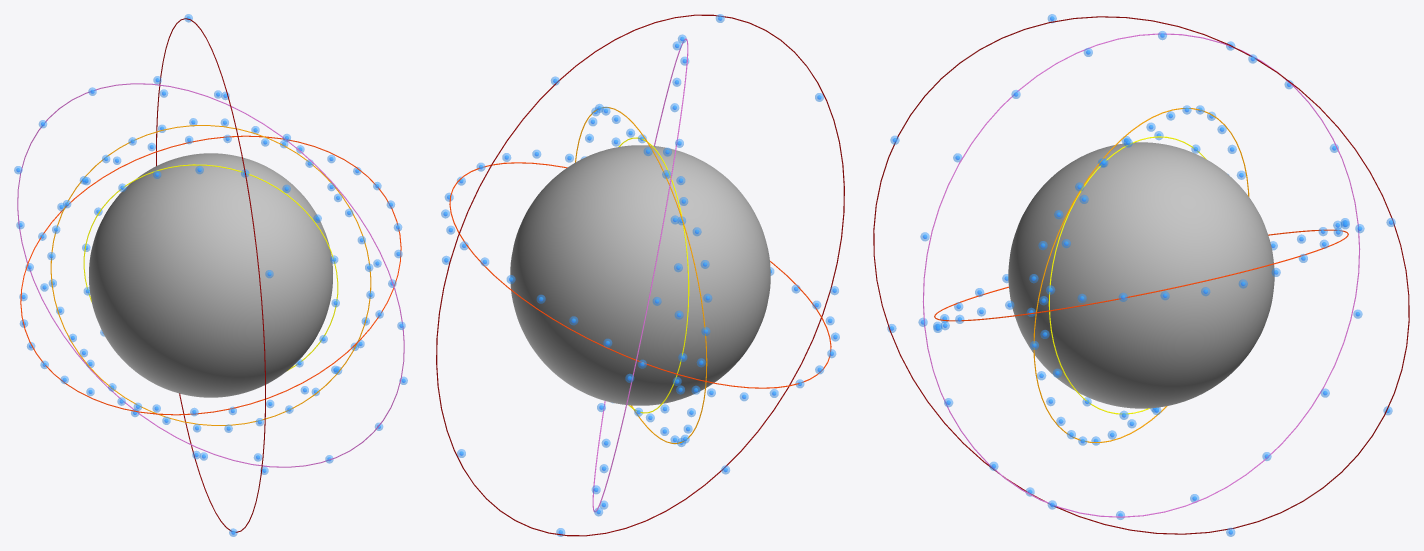
3 views of the same model, side by side, from view 1: azimuth 30°, elevation 25°; view 2: azimuth 150°, elevation 25°; view 3: azimuth 270°, elevation 25° (orthographic). The views are drawn at different scales.
Parts seen in each view (by area): view 1: Og, object 191, object 126, object 61, object 228, object 24; view 2: Og, object 228, object 191, object 126, object 61, object 24; view 3: Og, object 228, object 191, object 61, object 126, object 24.
Boxes of the visible parts, <box> form: Og: <box>89,153,332,397</box>; object 191: <box>17,83,404,467</box>; object 126: <box>20,135,401,415</box>; object 61: <box>50,125,371,425</box>; object 228: <box>156,18,265,532</box>; object 24: <box>83,164,338,370</box>; Og: <box>510,145,770,405</box>; object 228: <box>436,14,844,536</box>; object 191: <box>592,38,688,512</box>; object 126: <box>449,162,831,388</box>; object 61: <box>575,107,707,443</box>; object 24: <box>618,137,689,413</box>; Og: <box>1008,142,1274,408</box>; object 228: <box>873,16,1409,534</box>; object 191: <box>922,33,1360,517</box>; object 61: <box>1033,108,1249,442</box>; object 126: <box>934,229,1348,321</box>; object 24: <box>1048,136,1206,414</box>.
Size of the model in its own units: 6.94 by 9.61 by 9.15.
